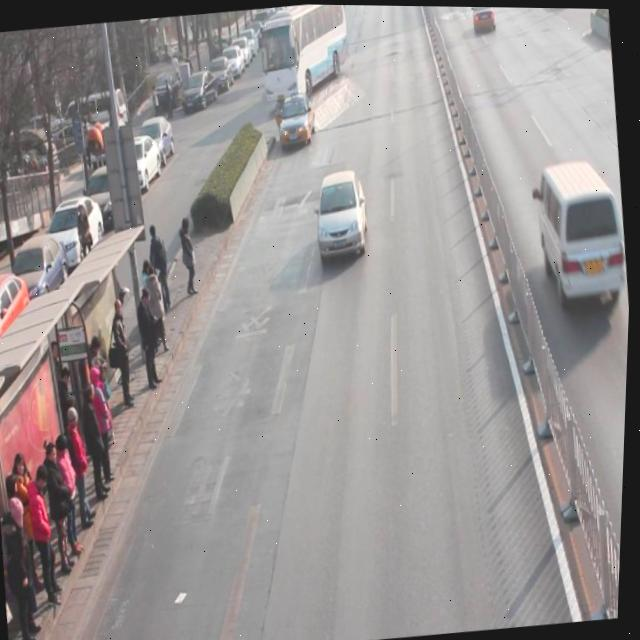car: (312, 167, 374, 261), (276, 91, 319, 149), (469, 5, 496, 32)
truck: (533, 156, 635, 315)
van: (254, 3, 353, 95)
